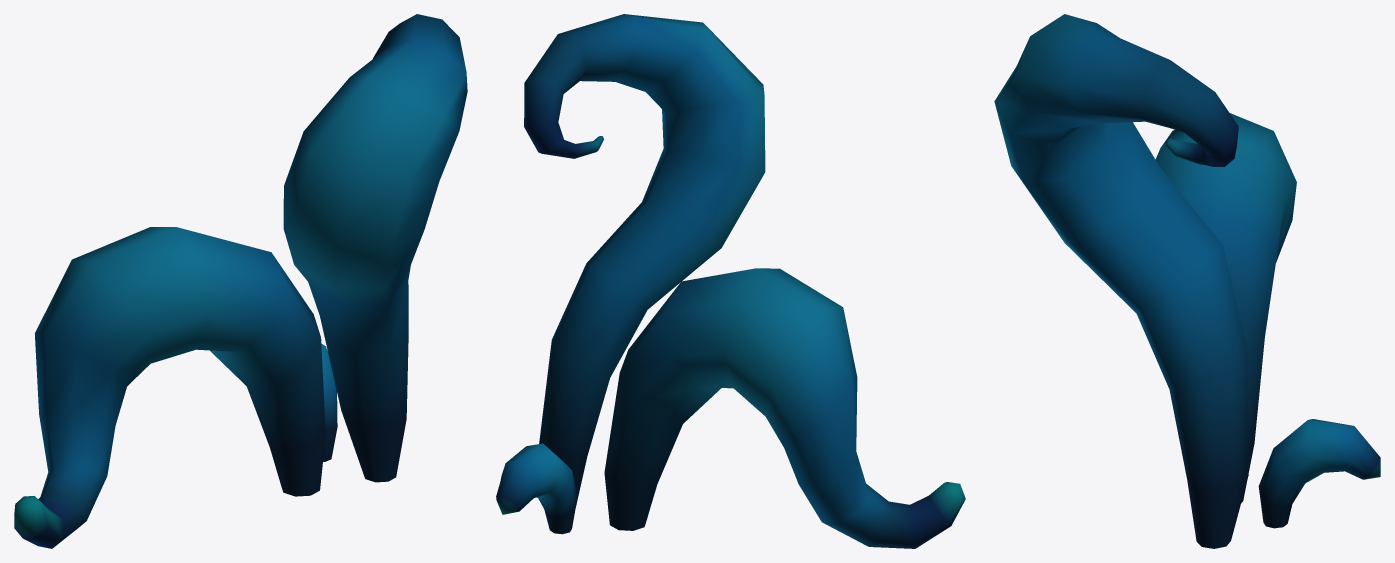
Rendered from Alien_Ivy05.fbx.
3 renders of one model, left to right at view 1: azimuth 30°, elevation 25°; view 2: azimuth 150°, elevation 25°; view 3: azimuth 270°, elevation 25°, orthographic. The views are drawn at different scales.
Parts seen in each view (by area): view 1: Alien_Ivy05; view 2: Alien_Ivy05; view 3: Alien_Ivy05.
Part boxes in pixels (box(x1,y1,x2,y2)): Alien_Ivy05: box(14, 14, 467, 548); Alien_Ivy05: box(496, 14, 965, 548); Alien_Ivy05: box(994, 14, 1380, 548).
Size of the model in its own units: 2281 by 2373 by 1674.
